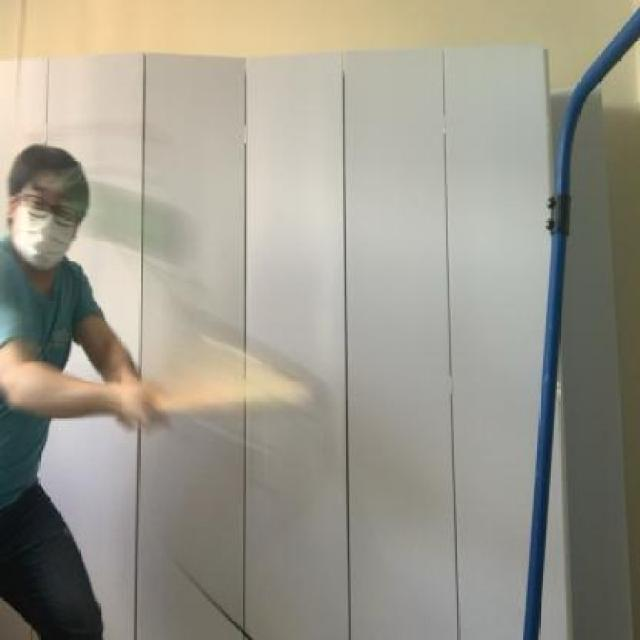baseball: (63, 164, 202, 282)
